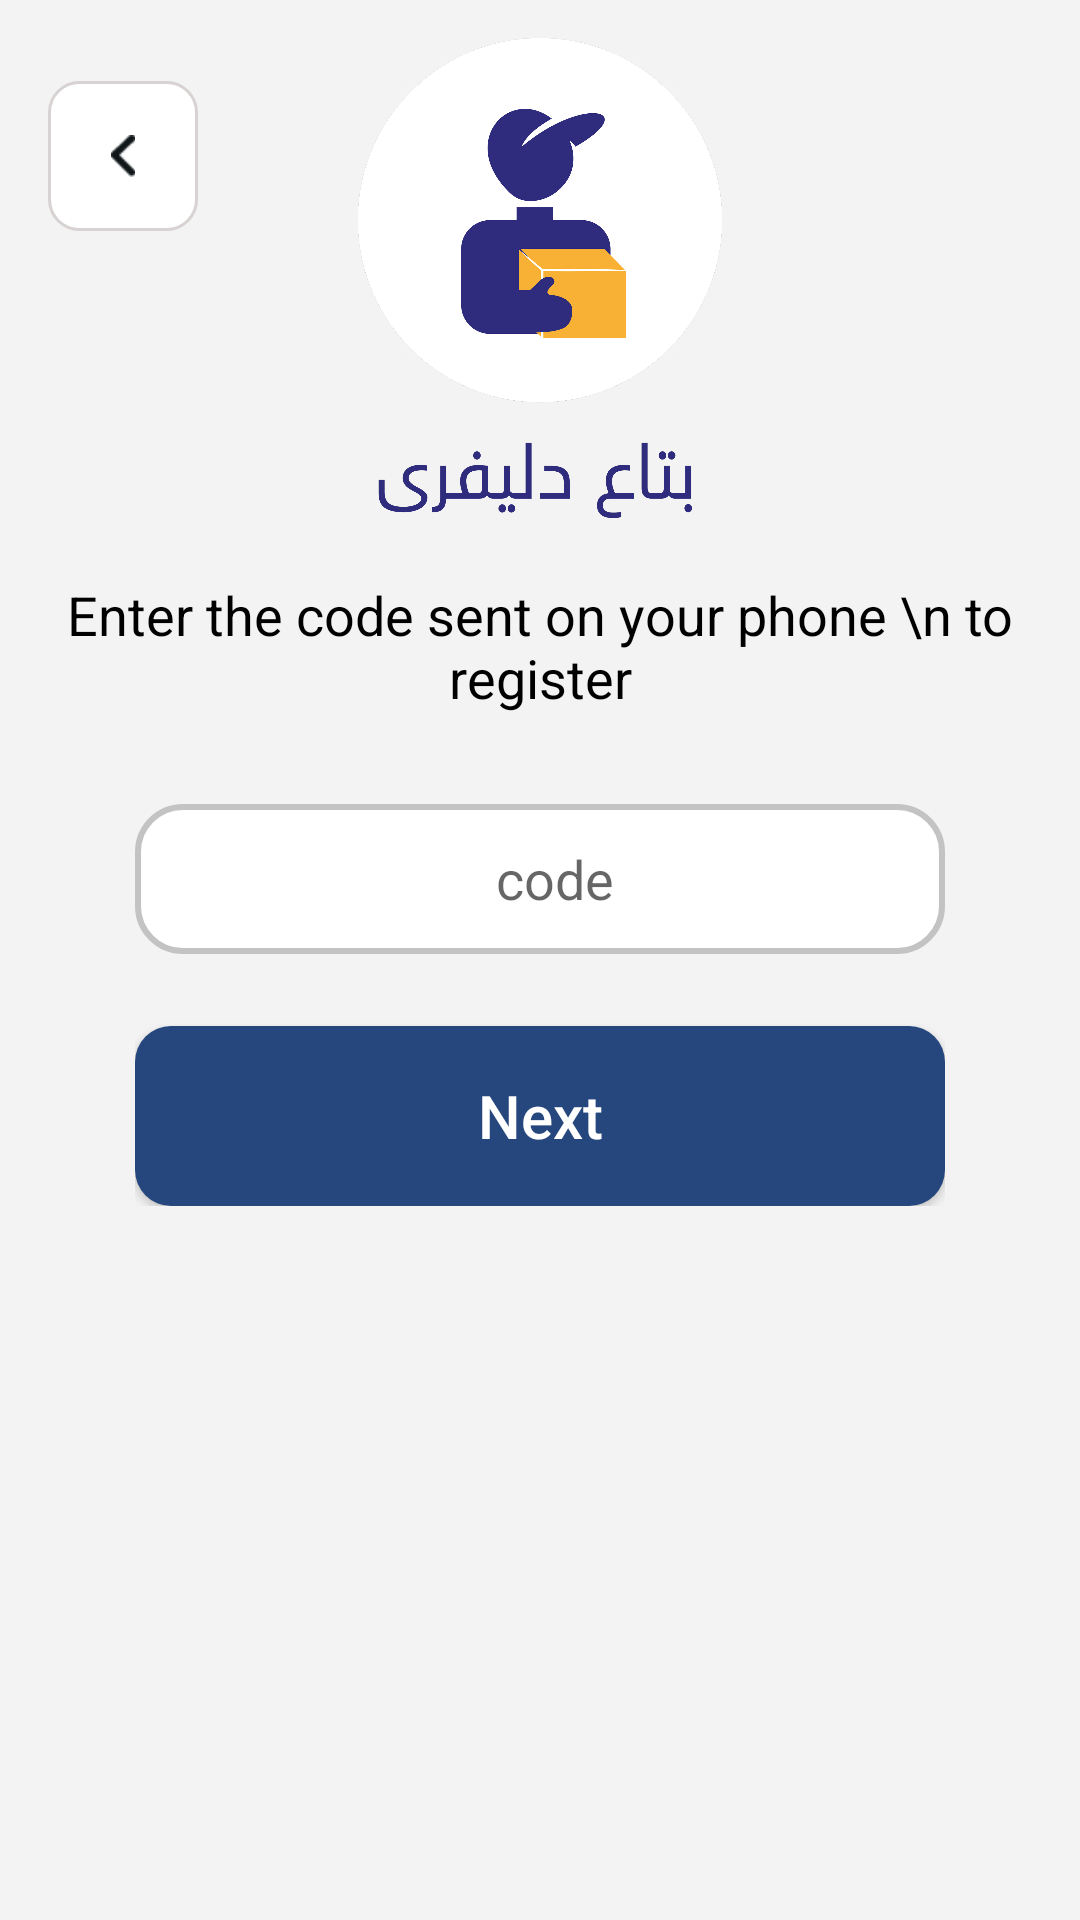

Icon bounding boxes for this 1080*1920 phone screenshot, format [x1,y1,x2,y2]:
back: [48,81,198,231]
